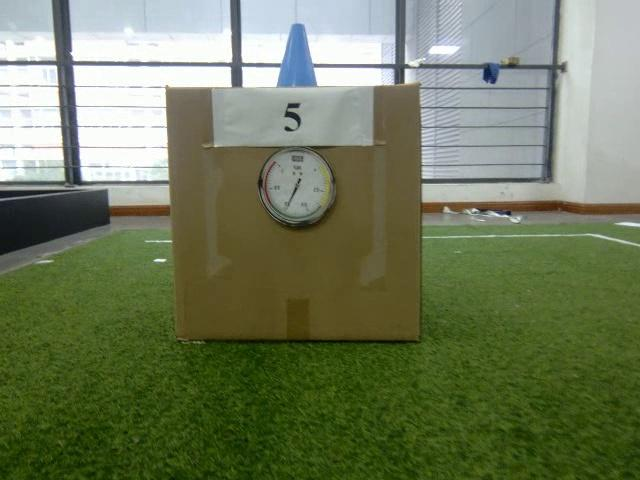5: (281, 100, 303, 133)
Dashboard: (256, 145, 337, 231)
blue_barrel: (275, 24, 320, 87)
ssi: (290, 154, 305, 164)
